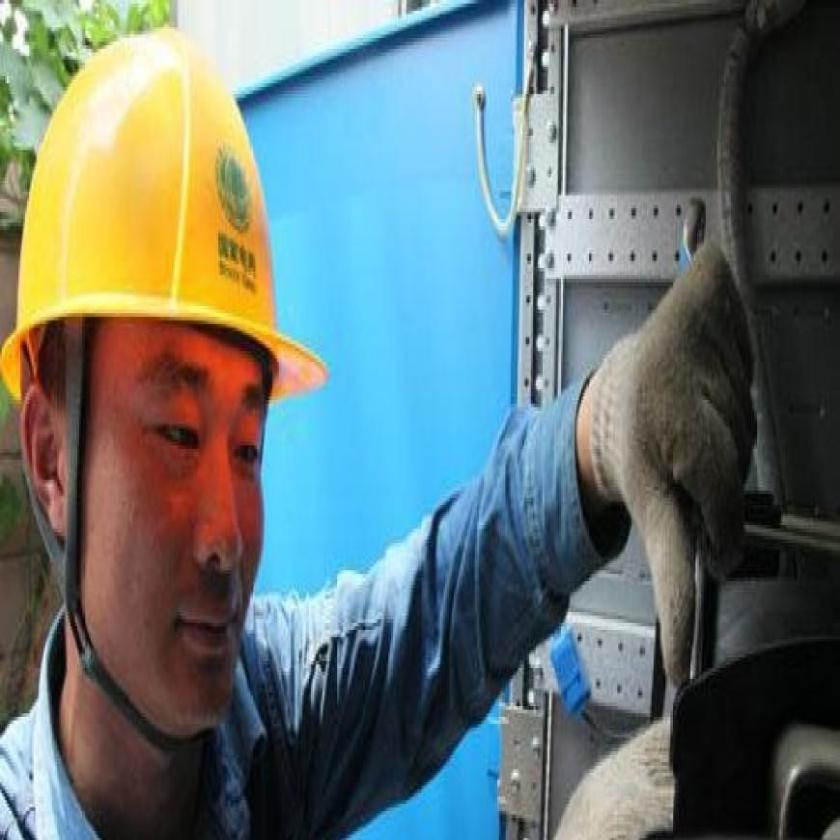Con_casco: (0, 22, 334, 762)
